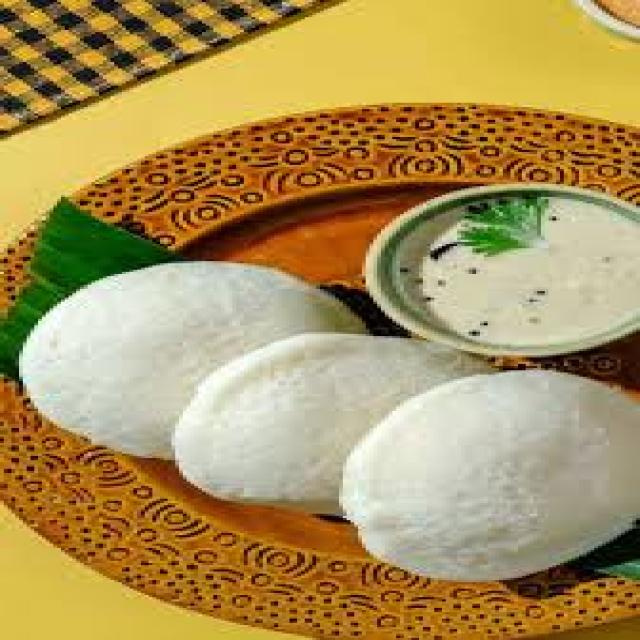IDLI: (13, 265, 368, 453), (333, 366, 636, 584), (168, 334, 512, 513)
